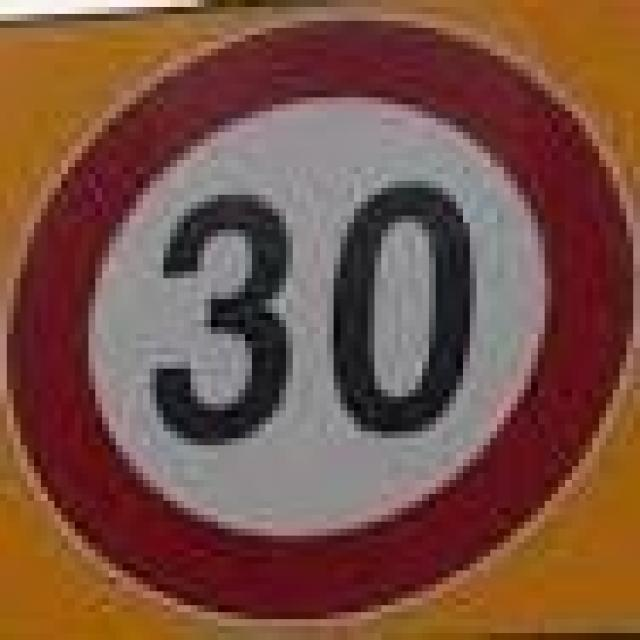speed_limit_30: (0, 0, 626, 626)
